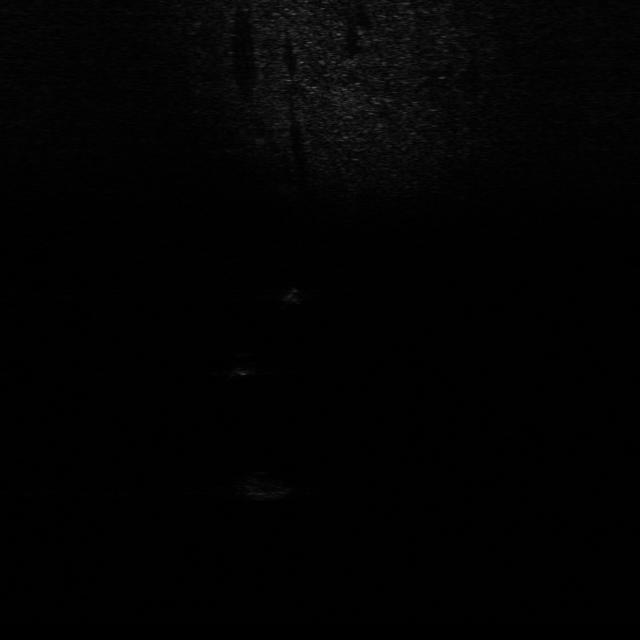ball: (222, 350, 262, 378)
circle cage: (238, 469, 296, 500)
human body: (274, 286, 312, 309)
